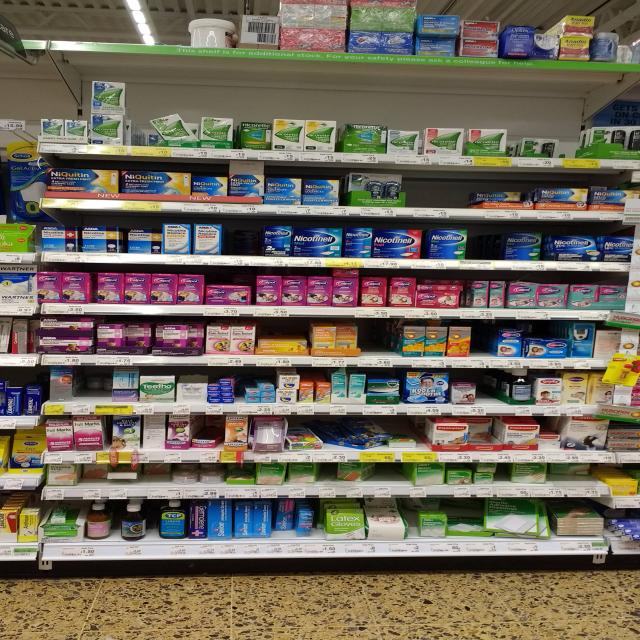empty: (403, 177, 481, 205), (549, 124, 594, 166), (355, 320, 398, 360), (73, 371, 120, 407), (222, 220, 265, 257), (471, 366, 507, 409), (463, 227, 507, 261)
